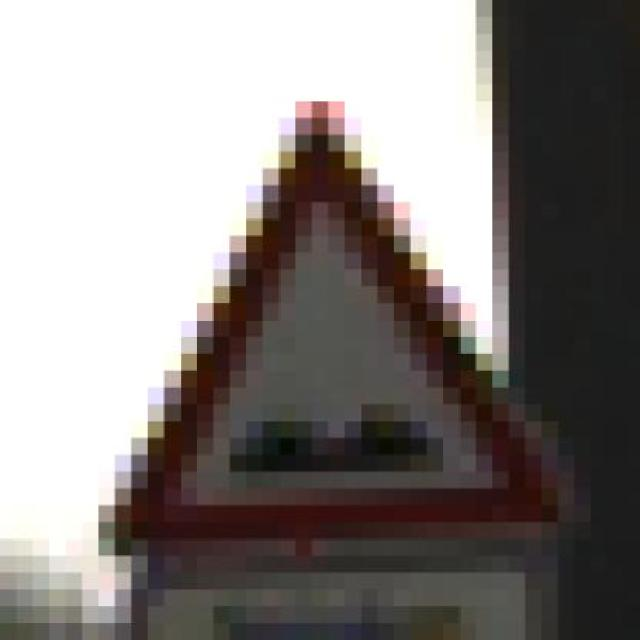Uneven Road: (82, 101, 575, 556)
